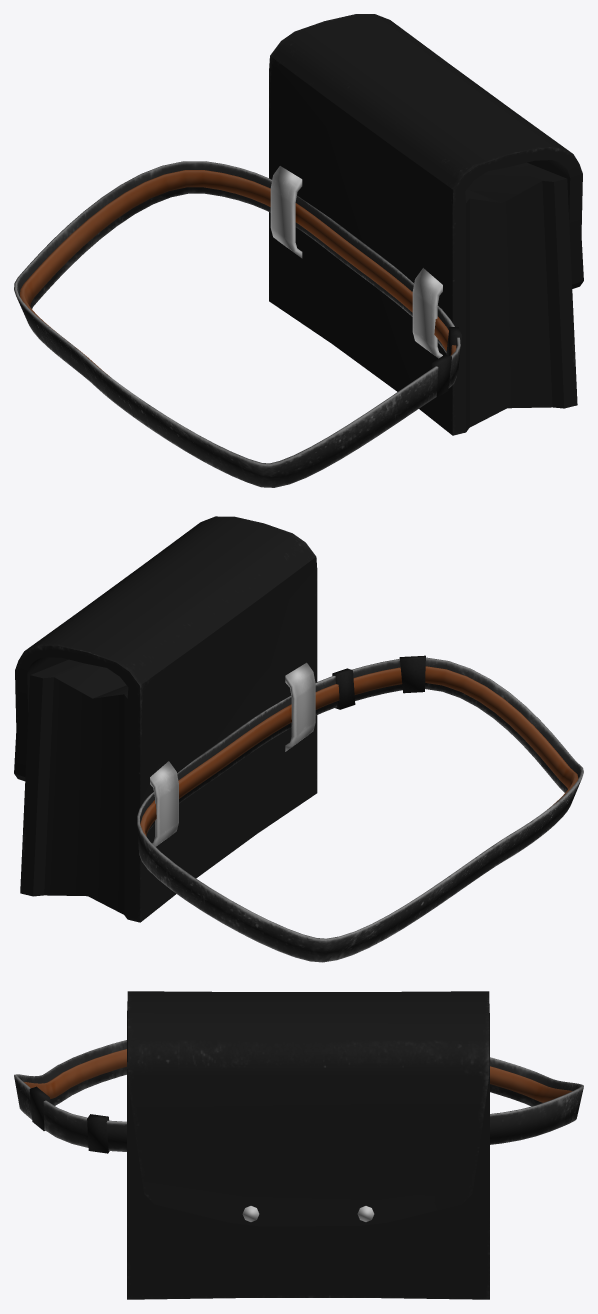
Rendered from Bag.fbx.
3 renders of one model, top to bottom at view 1: azimuth 30°, elevation 25°; view 2: azimuth 150°, elevation 25°; view 3: azimuth 270°, elevation 25°, orthographic. The views are drawn at different scales.
Visible parts, largest first — view 1: Bag, Belt, Belt Inside, Iron, Belt Closer; view 2: Bag, Belt, Belt Inside, Iron, Belt Closer; view 3: Bag, Belt, Belt Inside, Belt Closer, Iron.
Part boxes in pixels (bbox=[...]): Bag: bbox=[269, 14, 583, 435]; Belt: bbox=[14, 161, 460, 487]; Belt Inside: bbox=[20, 170, 456, 374]; Iron: bbox=[270, 166, 442, 358]; Belt Closer: bbox=[431, 327, 462, 397]; Bag: bbox=[14, 516, 317, 922]; Belt: bbox=[137, 657, 583, 962]; Belt Inside: bbox=[140, 666, 578, 836]; Iron: bbox=[150, 662, 315, 846]; Belt Closer: bbox=[332, 655, 425, 709]; Bag: bbox=[127, 991, 489, 1299]; Belt: bbox=[14, 1040, 583, 1151]; Belt Inside: bbox=[24, 1049, 572, 1102]; Belt Closer: bbox=[29, 1086, 109, 1153]; Iron: bbox=[242, 1206, 374, 1221].
Size of the model in its own units: 62.34 by 36.89 by 72.39.
Materials: 1 (1 with a texture image).
